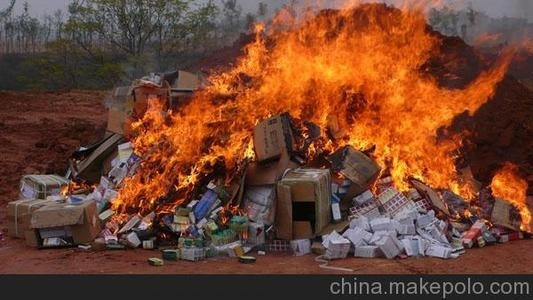fire: (113, 0, 516, 271), (58, 177, 94, 196)
